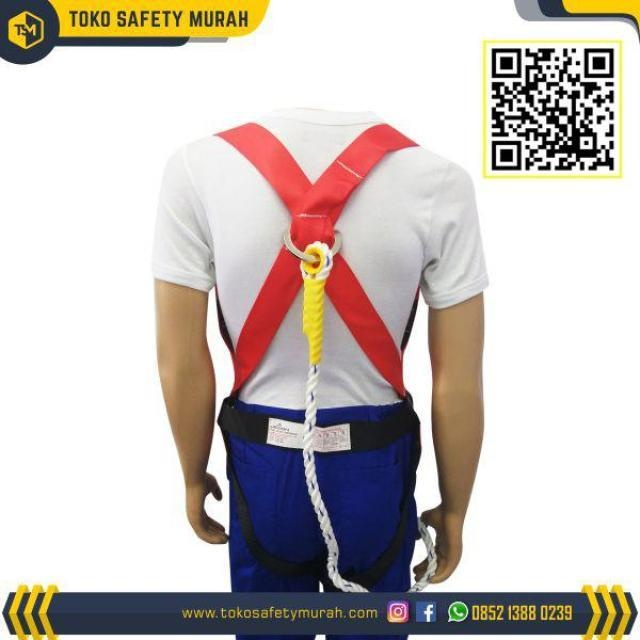Arnes_seguridad: (213, 118, 422, 587)
